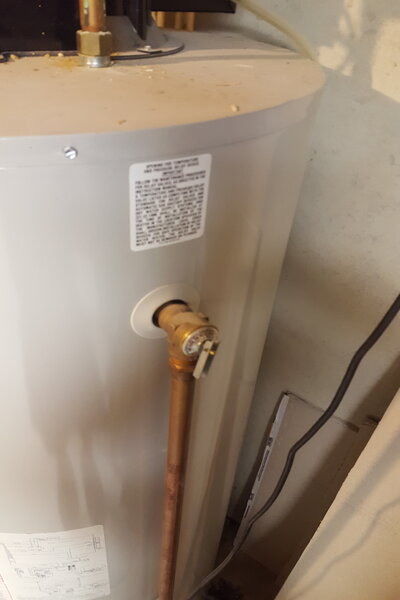valve: (153, 298, 222, 386)
